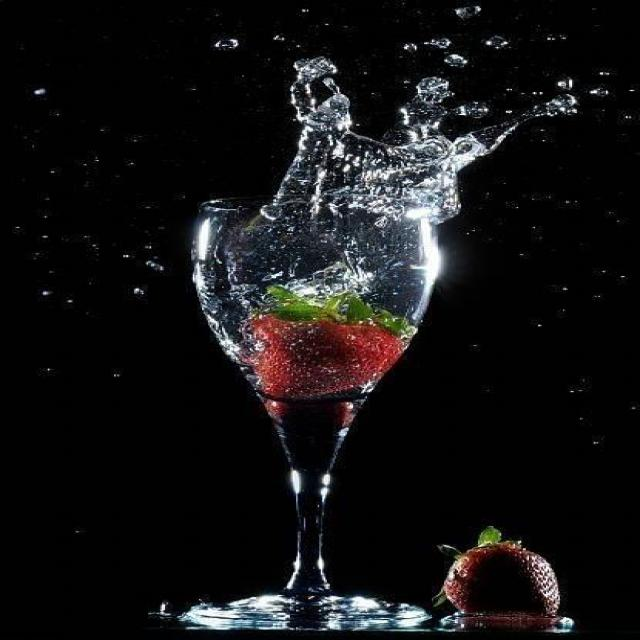glass-wine: (183, 191, 449, 628)
